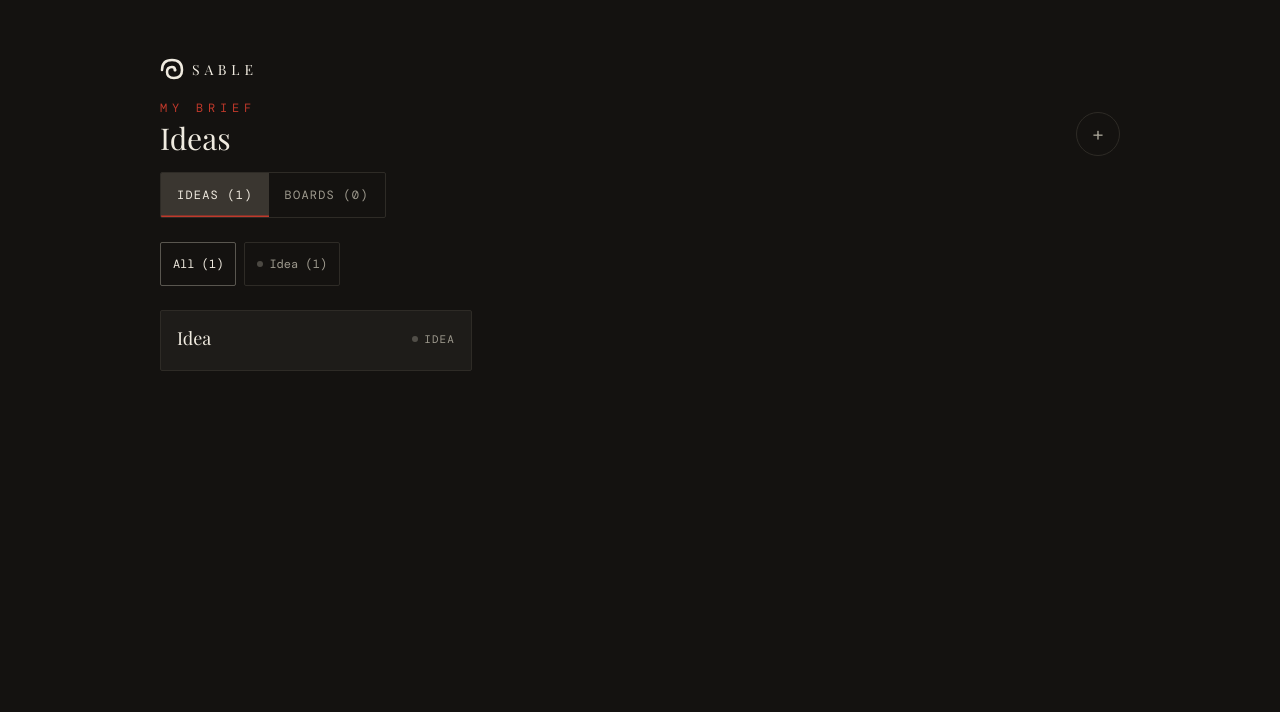
Test: a photo restored after saving survives a save from a reopened composer (#63) › keeps the restored photo when the reopened composer never touched images
Click the heading "Idea" at (194, 338), box 177,327 -> 211,350
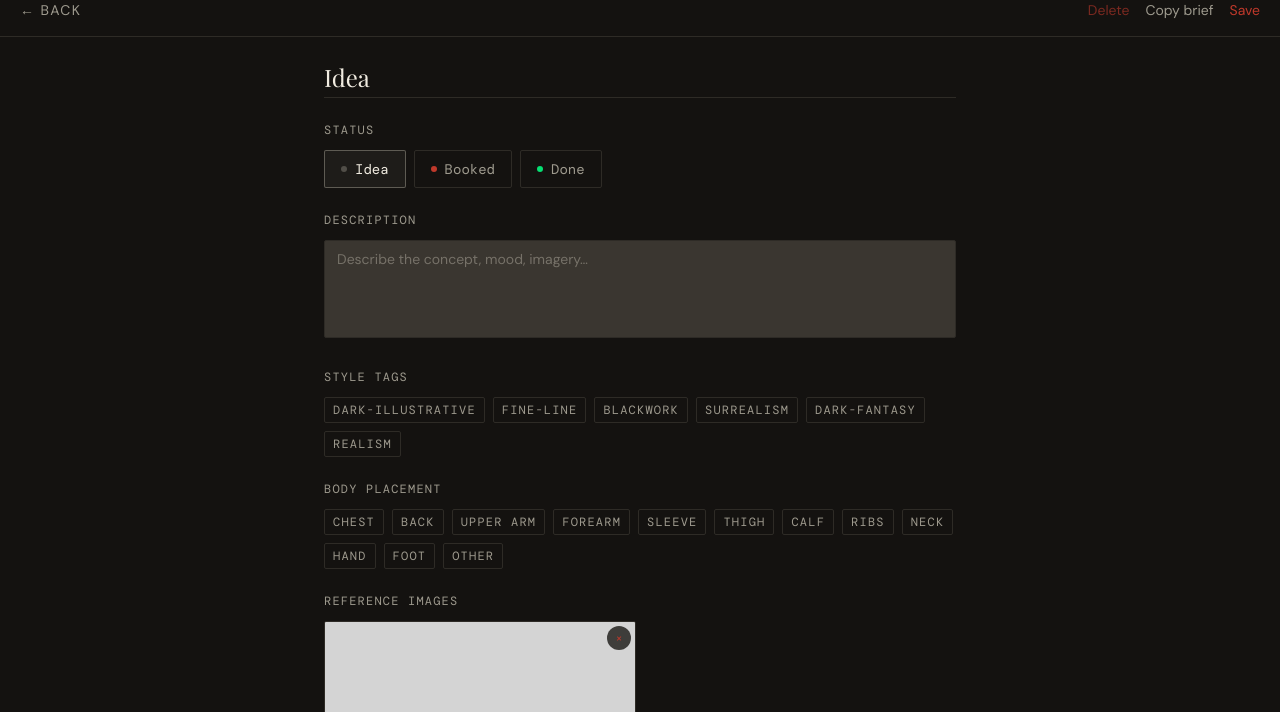
Click the button named "Remove photo" at (613, 644), box 591,622 -> 635,666
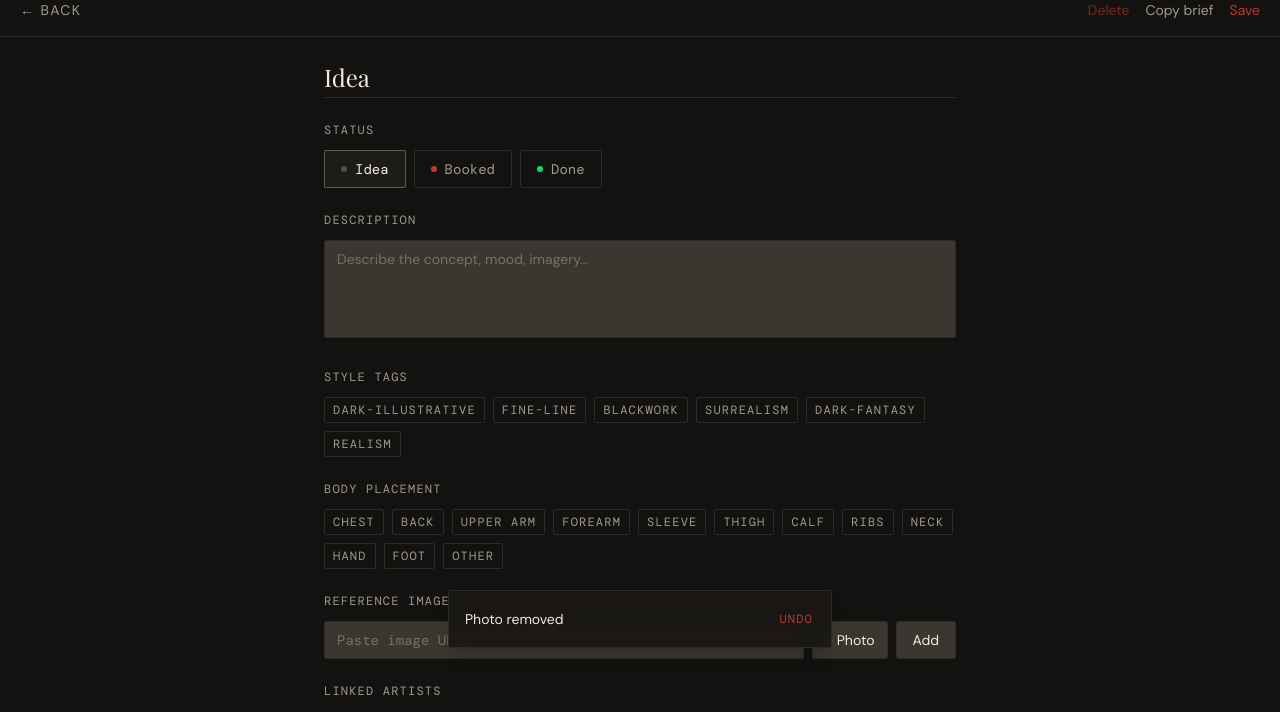
Click the button "Save" at (1245, 10), box 1230,0 -> 1260,20
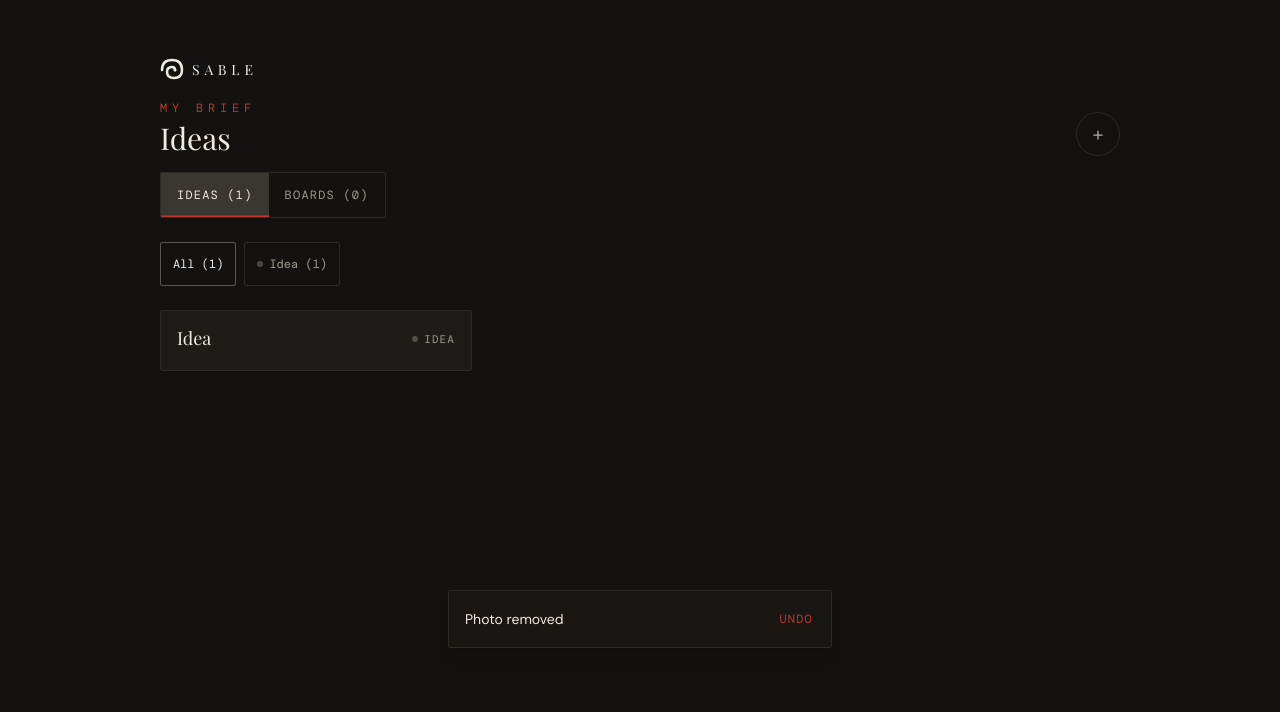
Click the heading "Idea" at (194, 338), box 177,327 -> 211,350
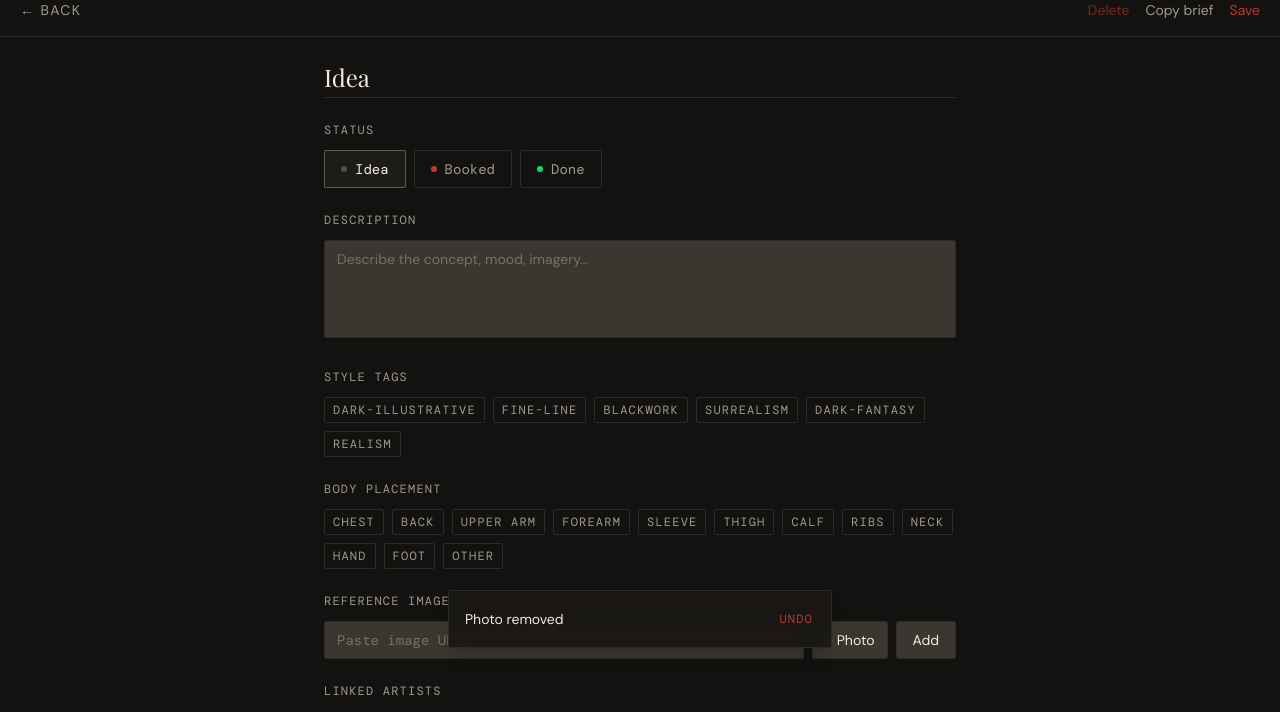
Click the button "Undo" at (796, 619), box 767,597 -> 825,641
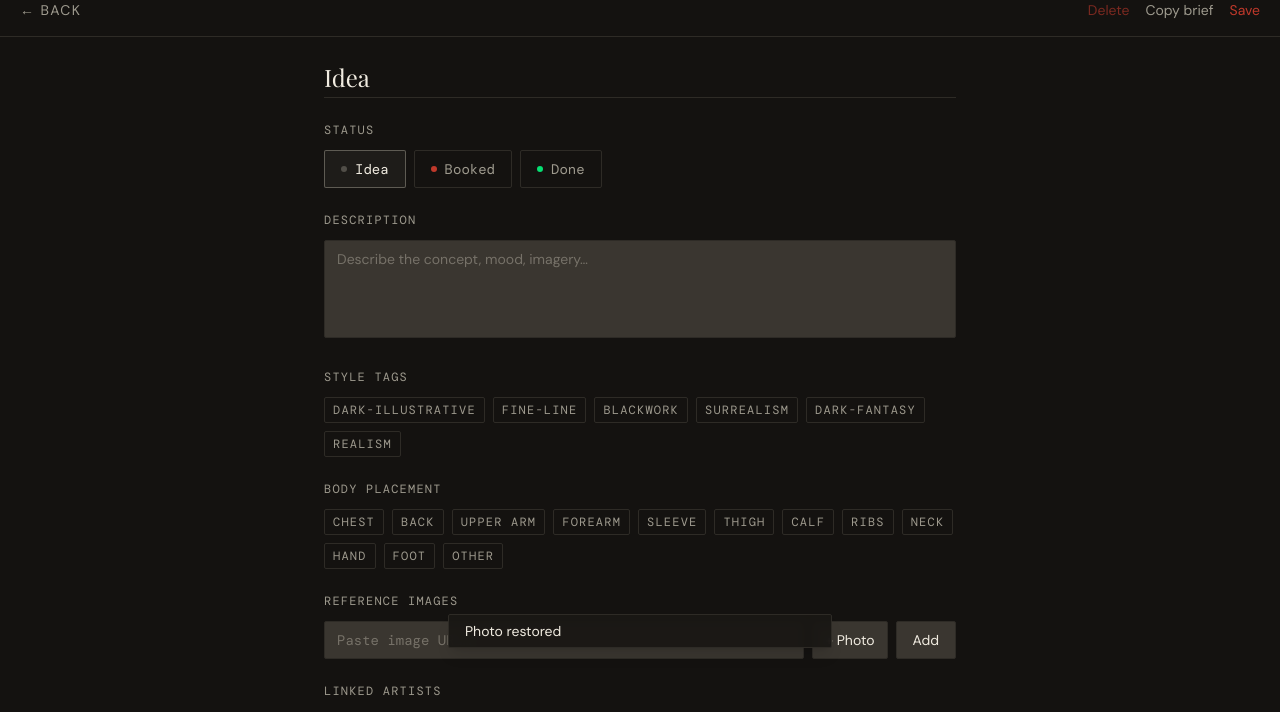
Note: B never touched images — editing only the description — then saves.
Type "a description" into the text box with placeholder "Describe the concept, mood, imagery…" at (640, 289), box 324,240 -> 956,338
Click the button "Save" at (1245, 10), box 1230,0 -> 1260,20
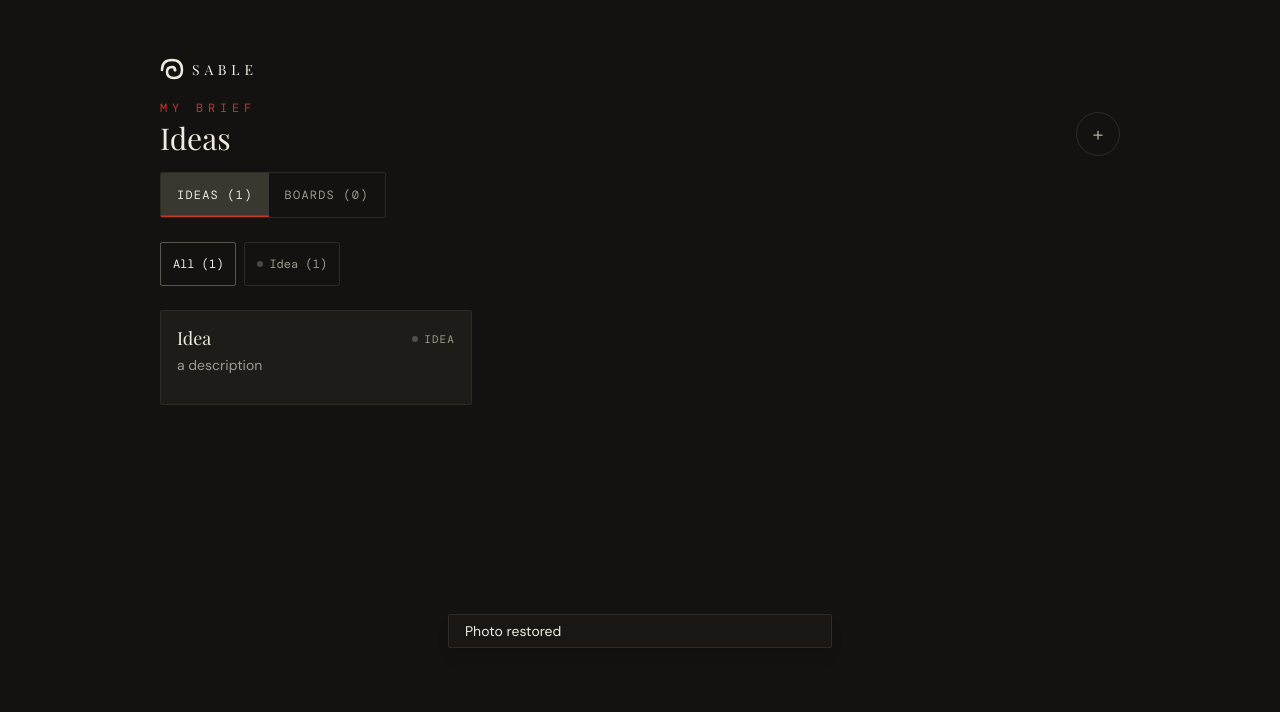
Expected: the text "a description" is shown, 177,356 -> 262,374
